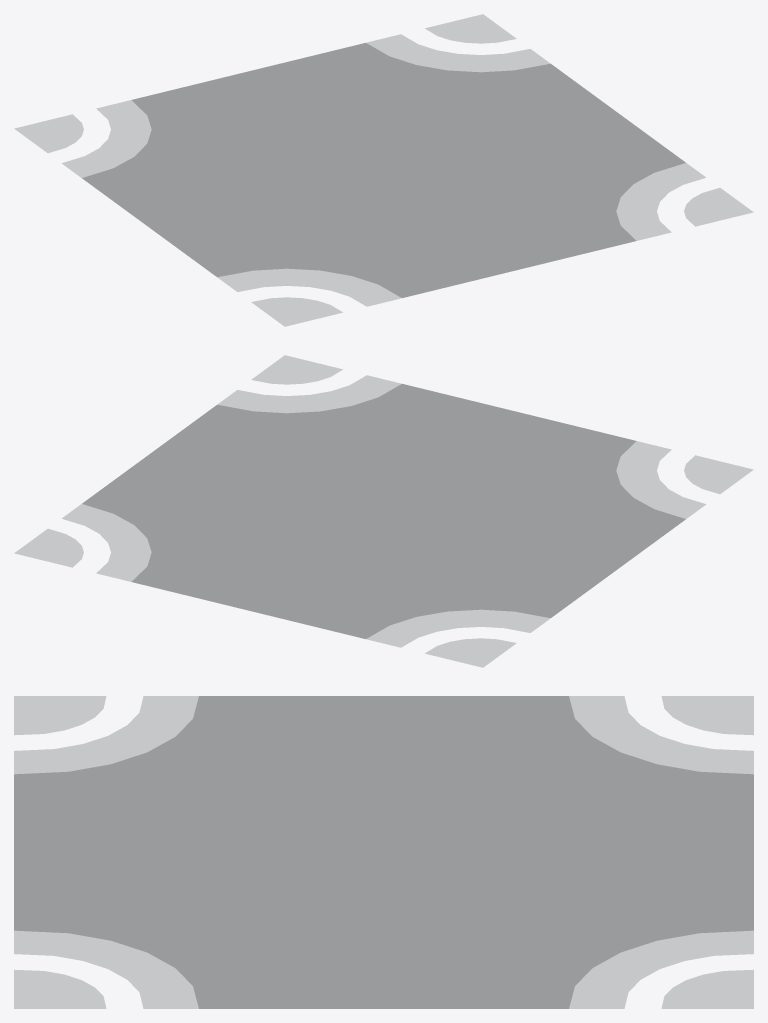
The model's file is Ceiling_type_A_044.glb.
The picture shows the model from 3 angles, top to bottom: view 1: azimuth 30°, elevation 25°; view 2: azimuth 150°, elevation 25°; view 3: azimuth 270°, elevation 25°; orthographic projection. The views are drawn at different scales.
Parts seen in each view (by area): view 1: Ceiling_type_A_044; view 2: Ceiling_type_A_044; view 3: Ceiling_type_A_044.
Part boxes in pixels (bbox=[...]): Ceiling_type_A_044: bbox=[14, 14, 753, 326]; Ceiling_type_A_044: bbox=[14, 355, 753, 667]; Ceiling_type_A_044: bbox=[14, 696, 753, 1008].
Size of the model in its own units: 4 by 0.012 by 4.
2 materials, 2 textured.
